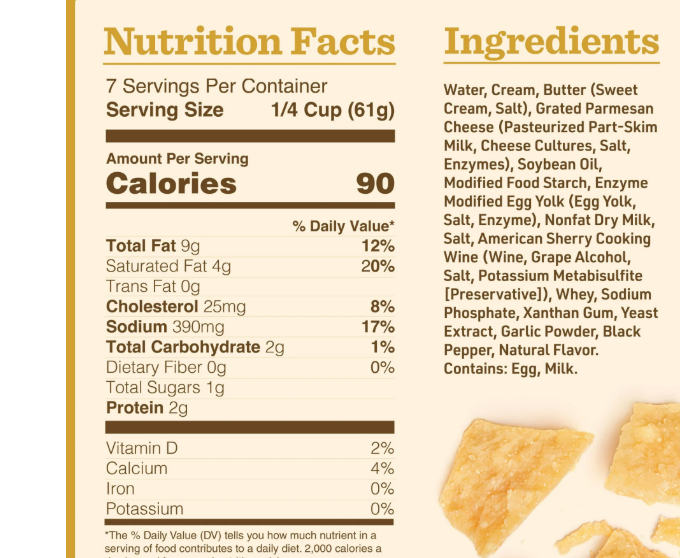l: (436, 23, 672, 384)
